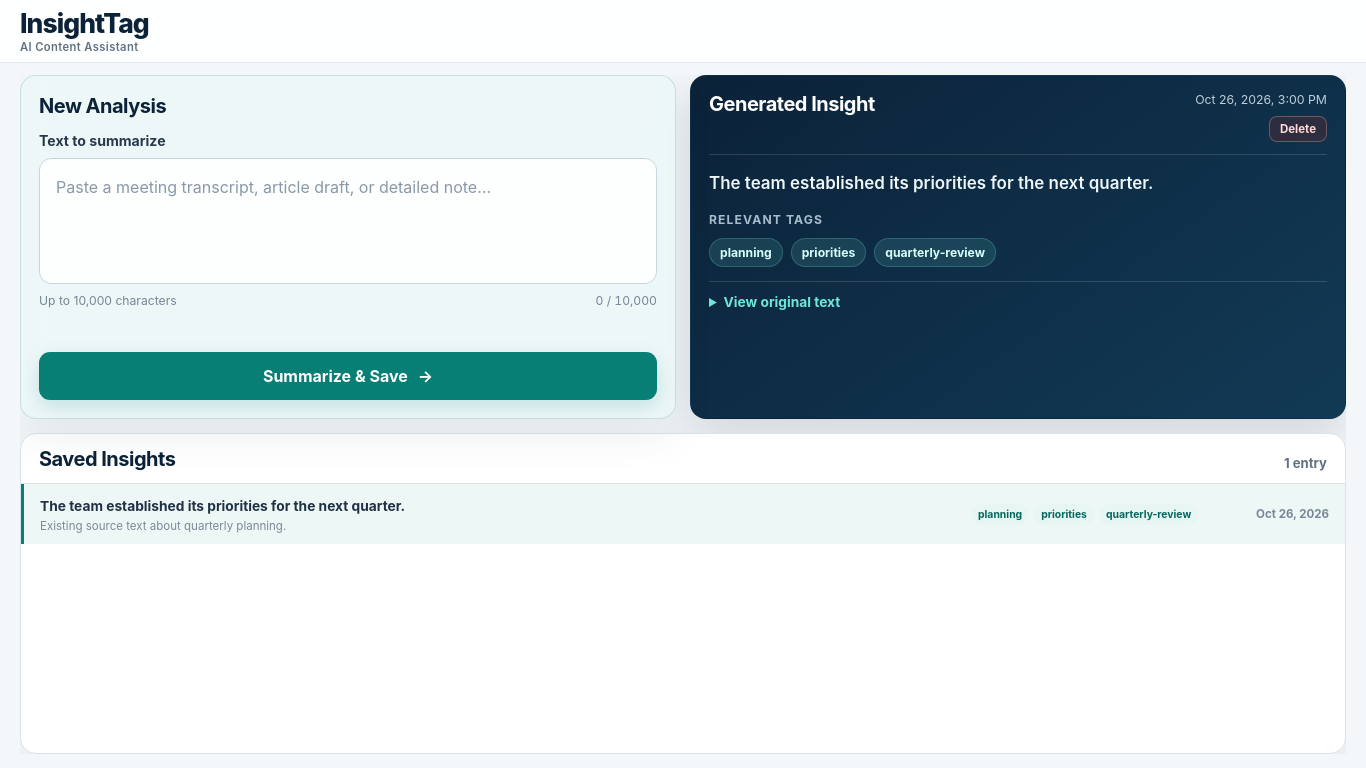
InsightTag smoke flow › keeps the entry and reports an error when deletion fails
Expected: the text "The team established its priorities for the next quarter." below "Generated Insight" is shown, [709, 172, 1153, 192]
Expected: the heading "Generated Insight" is shown, [709, 92, 875, 116]
Click the button "Delete" at (1298, 128), box [1269, 116, 1327, 142]
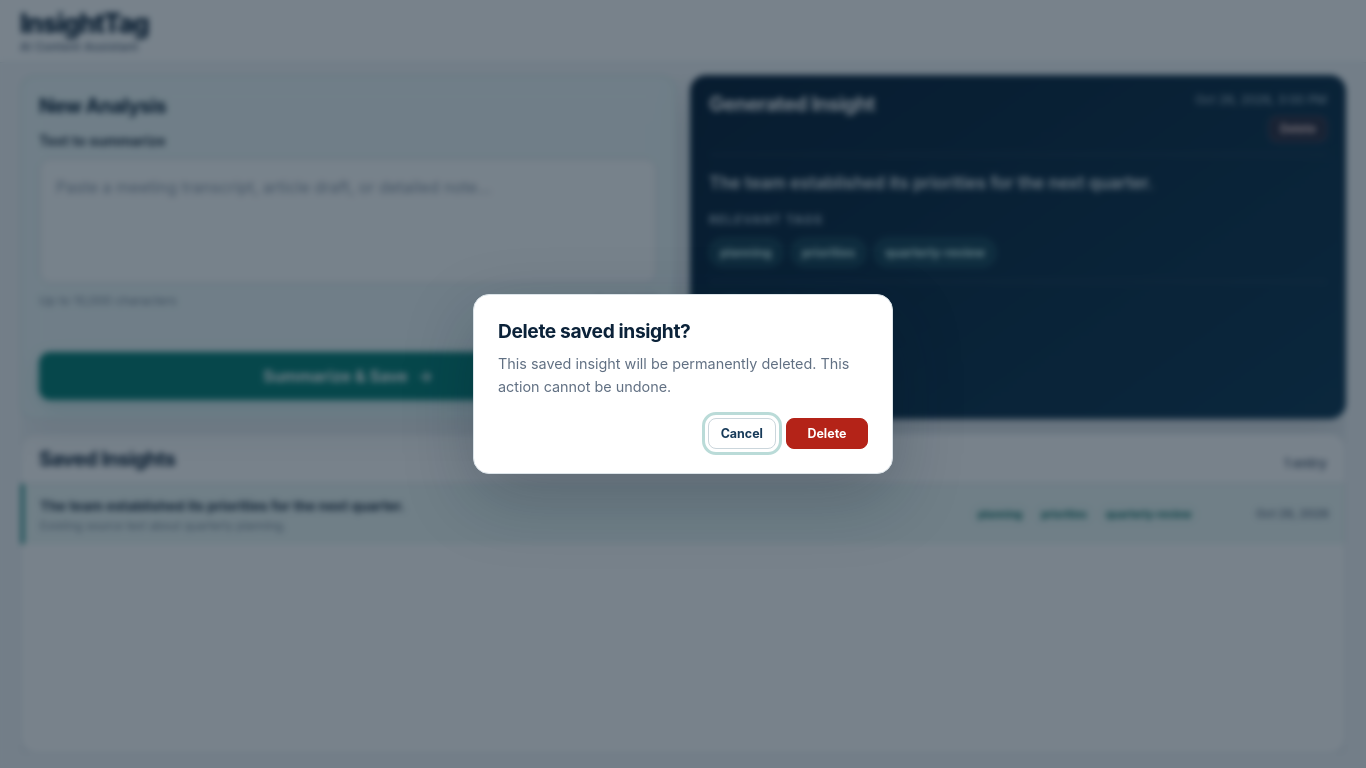
Click the button "Delete" at (827, 433), box [786, 418, 868, 449]
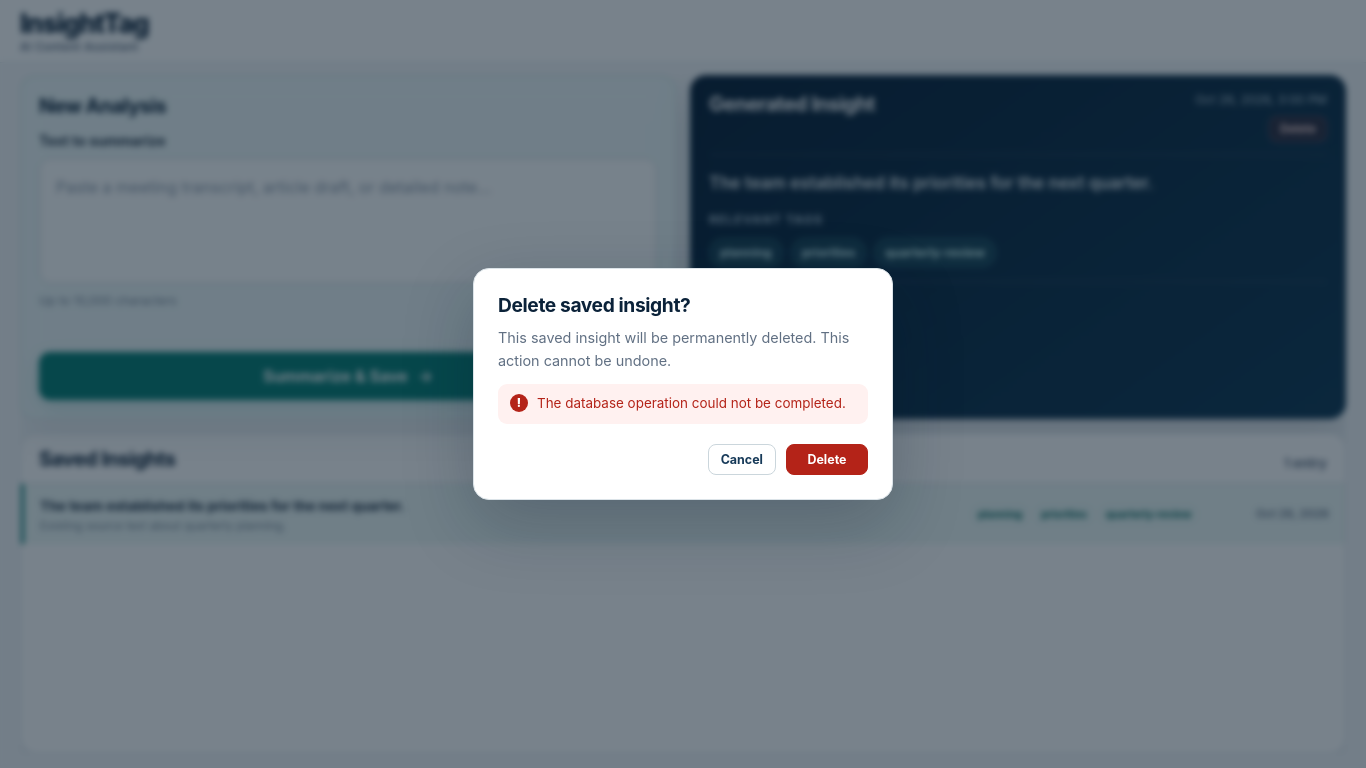
Expected: the text "The team established its priorities for the next quarter." is shown, [709, 172, 1153, 192]
Now the button "Delete" is enabled, box [786, 444, 868, 475]
Now the message shows "The database operation could not be completed.", box [537, 395, 846, 411]
